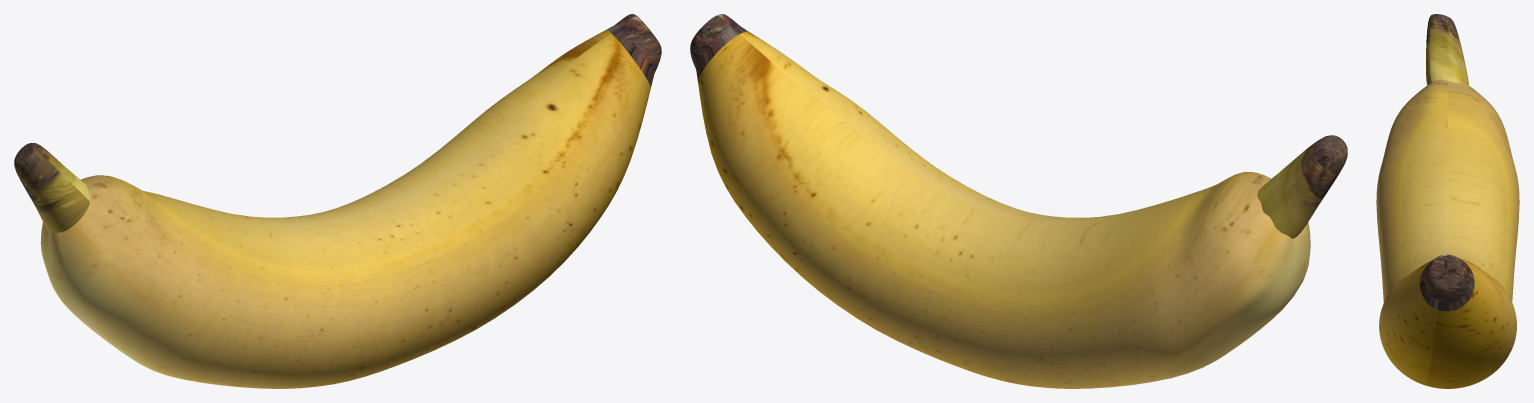
Rendered from banana.fbx.
3 renders of one model, left to right at view 1: azimuth 30°, elevation 25°; view 2: azimuth 150°, elevation 25°; view 3: azimuth 270°, elevation 25°, orthographic. The views are drawn at different scales.
Visible parts, largest first — view 1: pCylinder3; view 2: pCylinder3; view 3: pCylinder3.
Boxes of the visible parts, <box> form: pCylinder3: <box>14,14,661,388</box>; pCylinder3: <box>690,14,1347,388</box>; pCylinder3: <box>1376,14,1519,388</box>.
Bounding box in the file's own units: 1.79 × 0.8188 × 0.457.
1 material, 1 textured.
